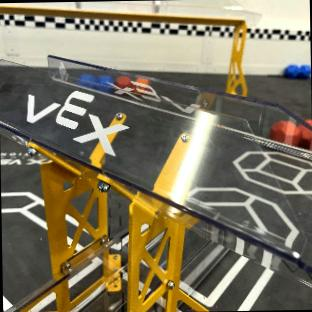Robot: (0, 54, 312, 312)
